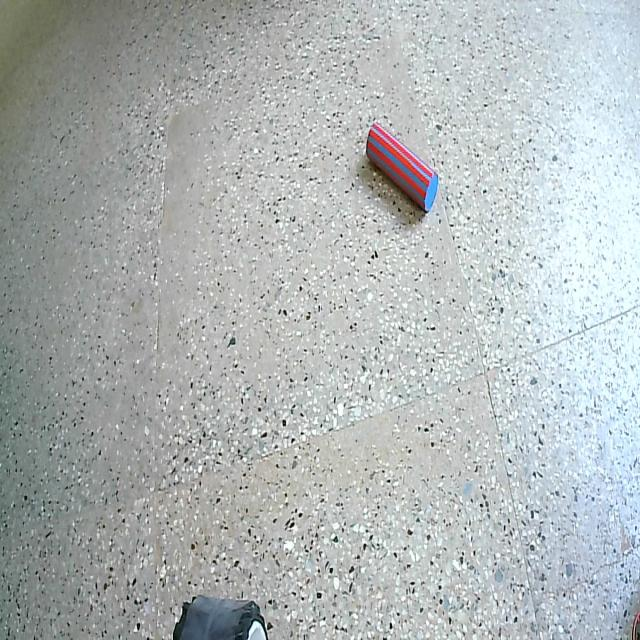cylinder: (359, 109, 447, 219)
